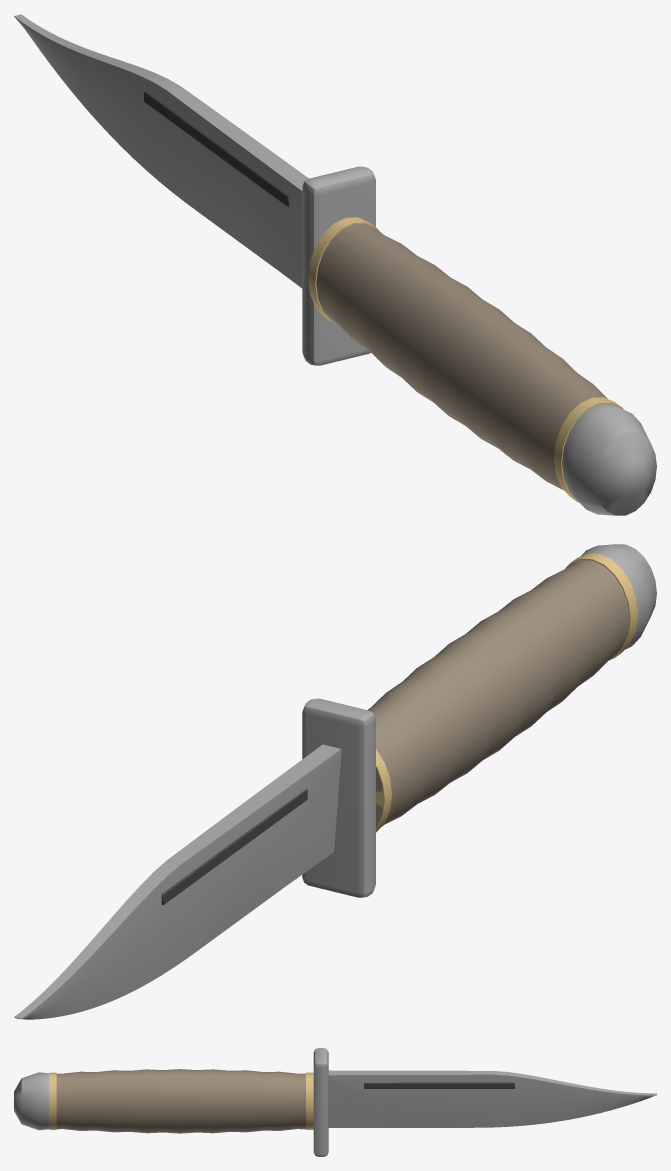
File: knife.glb
The picture shows the model from 3 angles, top to bottom: view 1: azimuth 30°, elevation 25°; view 2: azimuth 150°, elevation 25°; view 3: azimuth 270°, elevation 25°; orthographic projection. The views are drawn at different scales.
Visible parts, largest first — view 1: body; view 2: body; view 3: body.
Boxes of the visible parts, x1=… form: body: x1=14, y1=14, x2=656, y2=515; body: x1=14, y1=544, x2=656, y2=1019; body: x1=14, y1=1048, x2=656, y2=1156.
Size of the model in its own units: 0.0207 by 0.042 by 0.2554.
